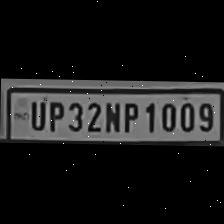0: (156, 100, 178, 132), (177, 100, 195, 132)
1: (139, 99, 157, 132)
2: (83, 97, 103, 132)
3: (63, 98, 83, 131)
9: (194, 100, 214, 132)
N: (100, 99, 119, 133)
P: (119, 98, 139, 133), (45, 98, 65, 132)
U: (25, 97, 45, 130)
